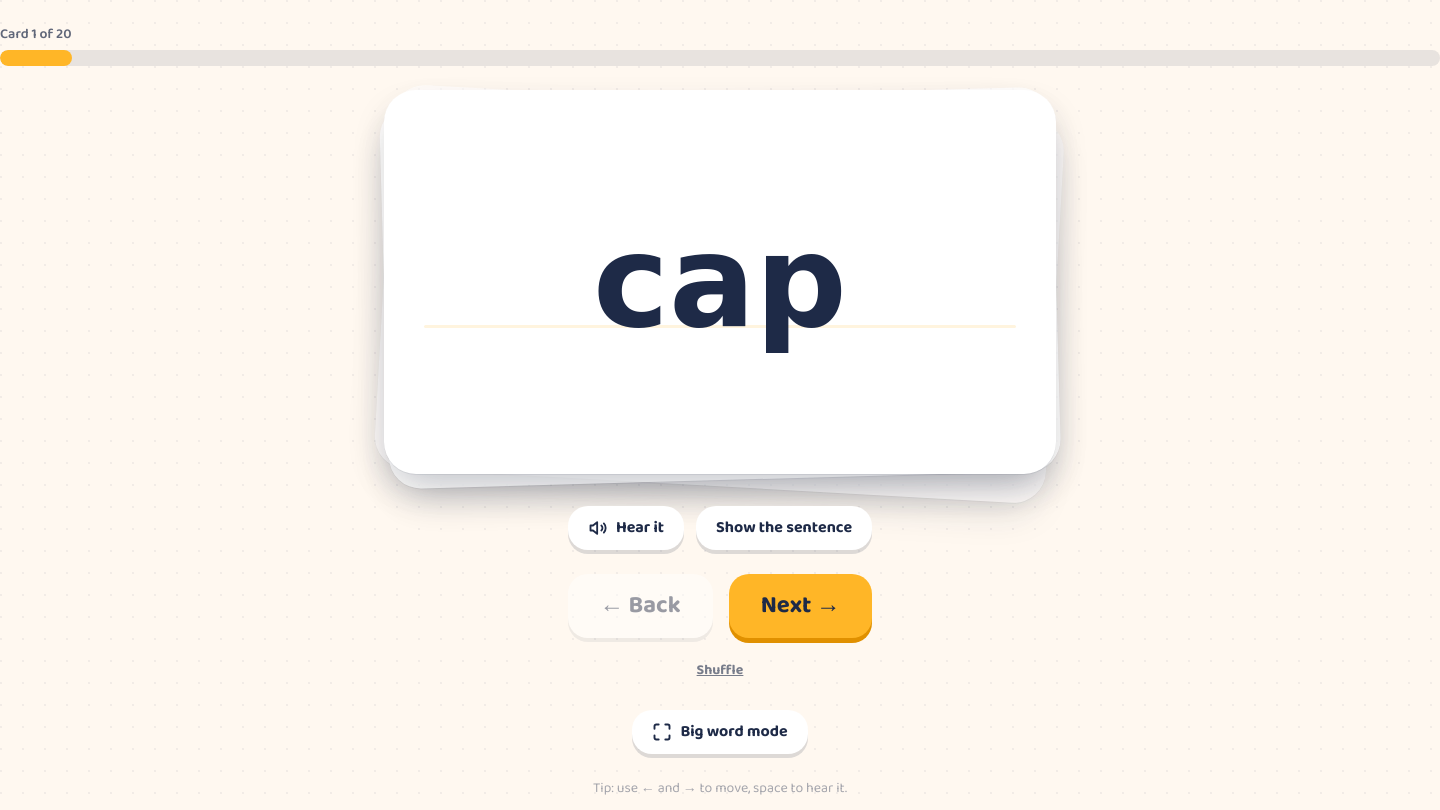
Scenario: focus mode › opens on request and shows the current word
Click the button "Big word mode".
click(720, 732)  # box x1=632 y1=710 x2=808 y2=754
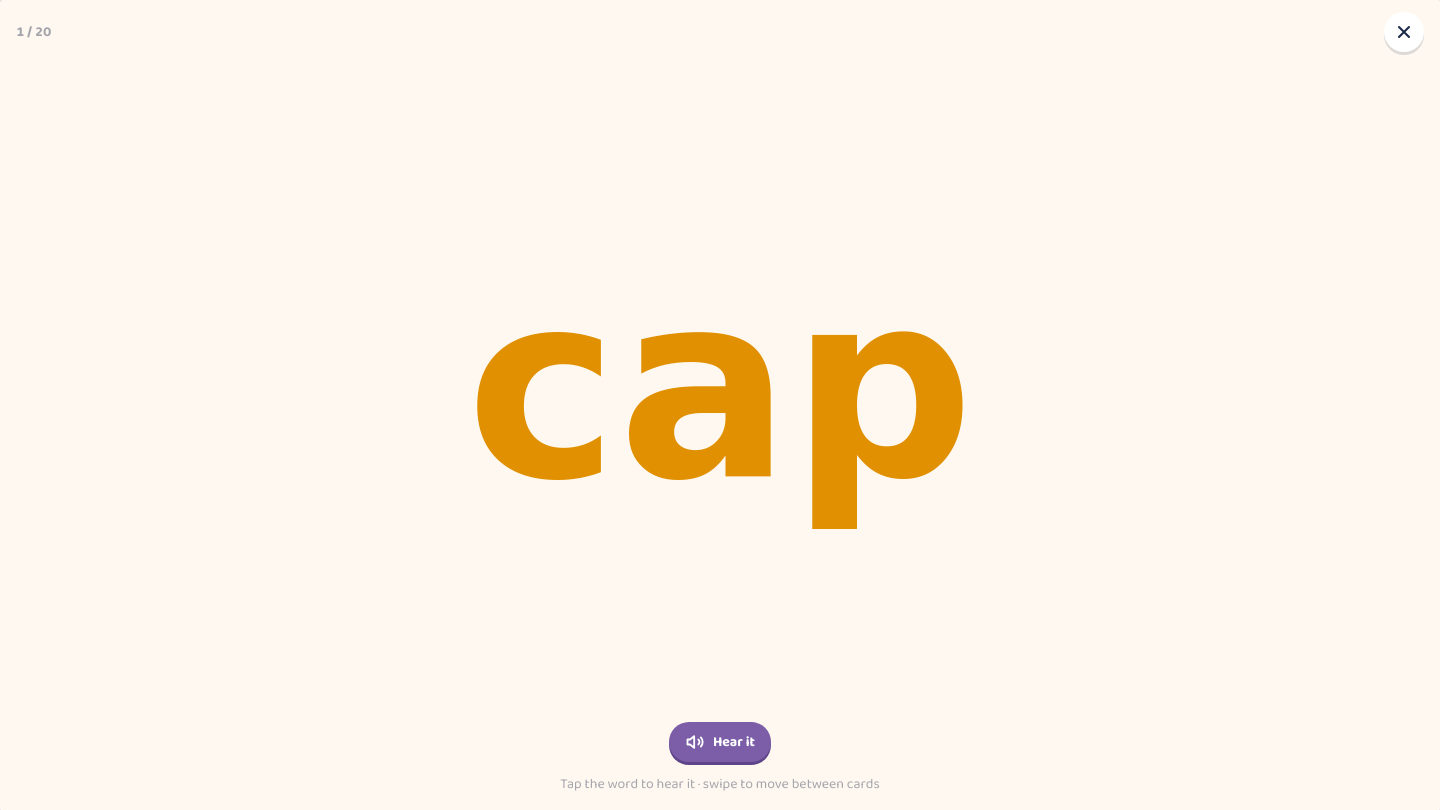
Now the dialog is shown
Now the dialog shows "cap", box x1=466 y1=238 x2=974 y2=536
